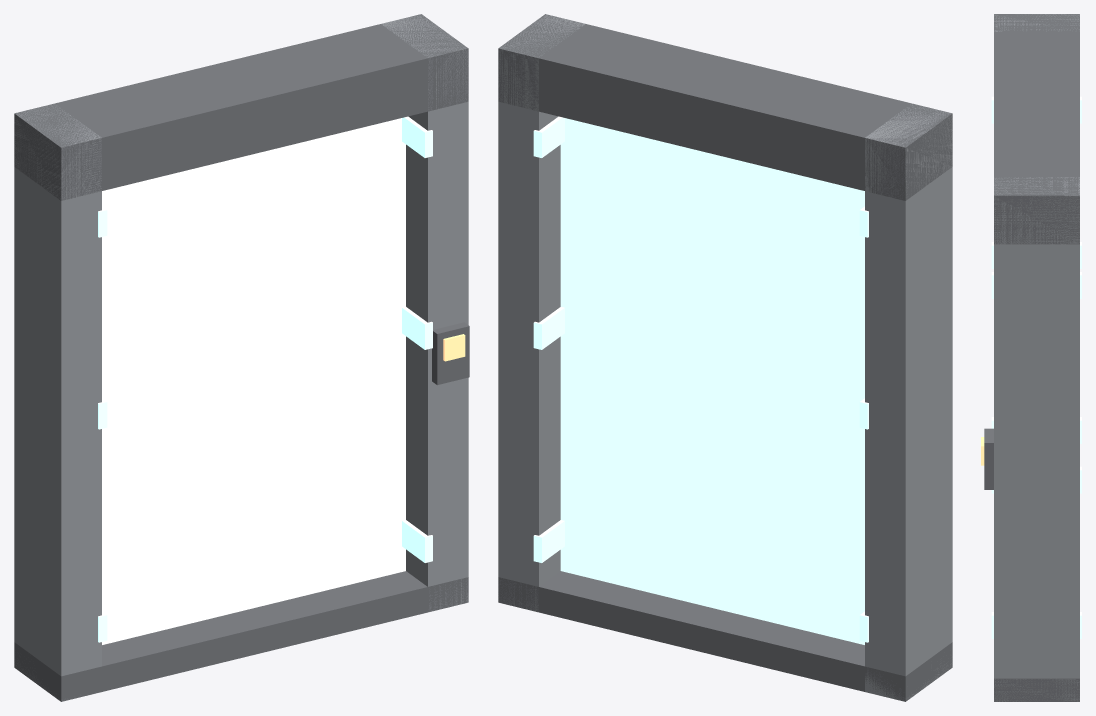
The model's file is SM_ForceField_Cell.fbx.
The picture shows the model from 3 angles, left to right: view 1: azimuth 30°, elevation 25°; view 2: azimuth 150°, elevation 25°; view 3: azimuth 270°, elevation 25°; orthographic projection. The views are drawn at different scales.
Visible parts, largest first — view 1: SM_ForceField_Cell; view 2: SM_ForceField_Cell; view 3: SM_ForceField_Cell.
Part boxes in pixels (x1,y1,x2,y2): SM_ForceField_Cell: (14, 14, 469, 701); SM_ForceField_Cell: (498, 14, 952, 701); SM_ForceField_Cell: (981, 14, 1081, 701).
Bounding box in the file's own units: 2 × 2.6 × 0.47.
